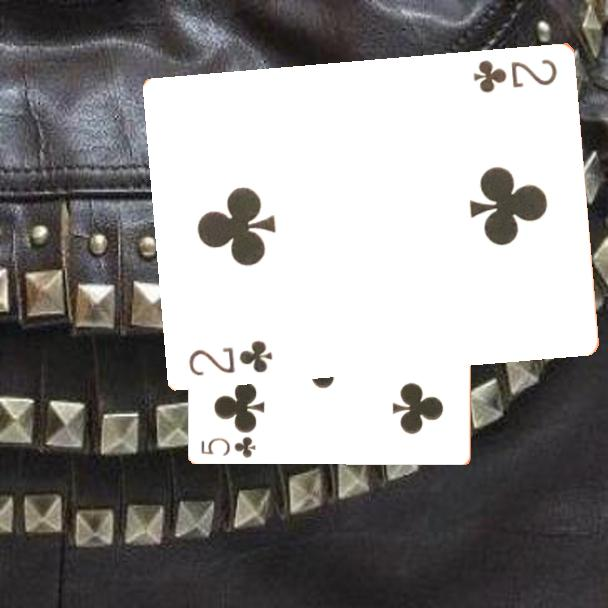c02: (185, 336, 276, 379), (470, 55, 560, 95)
c05: (198, 433, 259, 460)
